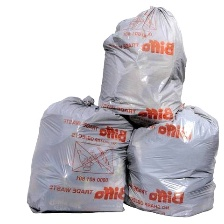plastic_bag: (21, 92, 136, 215), (89, 4, 191, 128), (125, 100, 222, 220)
